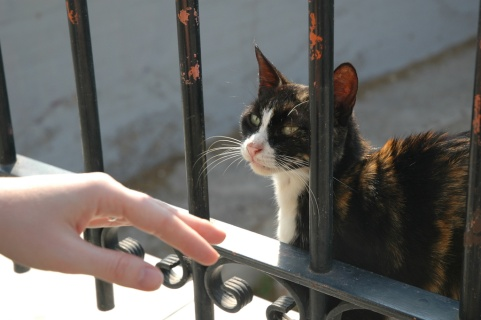Cat: (190, 43, 480, 319)
